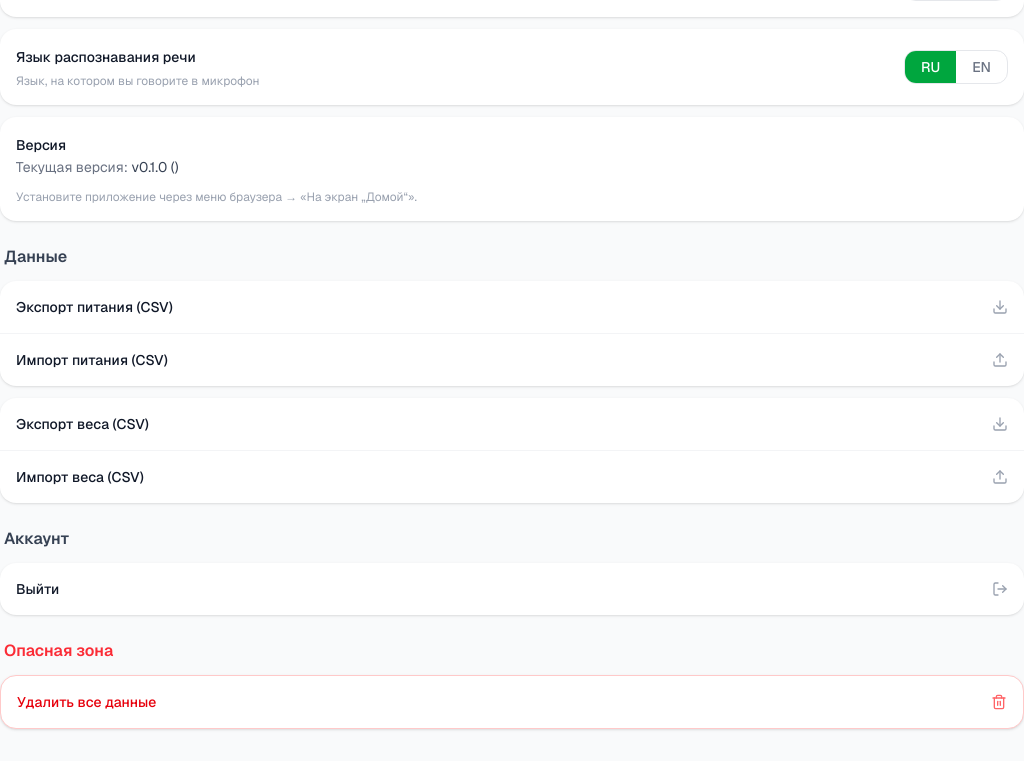
Test case: SettingsClient › deleteAll_ShouldShowConfirmDialog_WhenDeleteButtonClicked
This screenshot has width=1024, height=761.
(page scrolled)
Click the button "Удалить все данные": (87, 702) left=0, top=675, right=1023, bottom=729
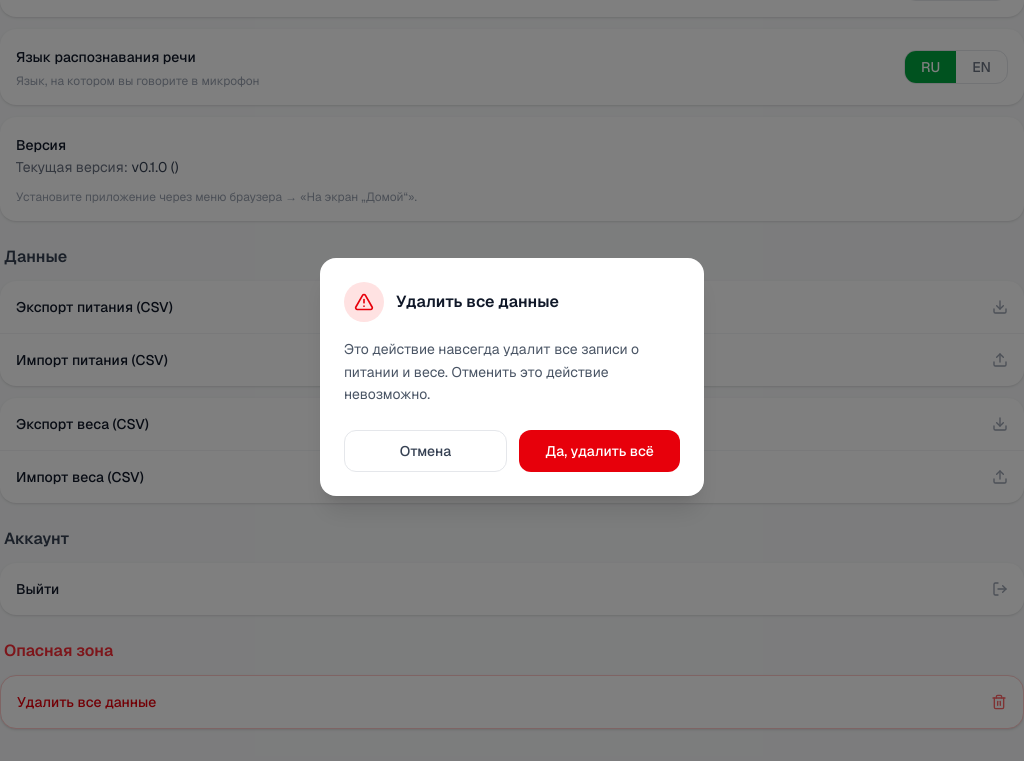
Now the button "Да, удалить всё" is shown, box left=519, top=430, right=680, bottom=472
